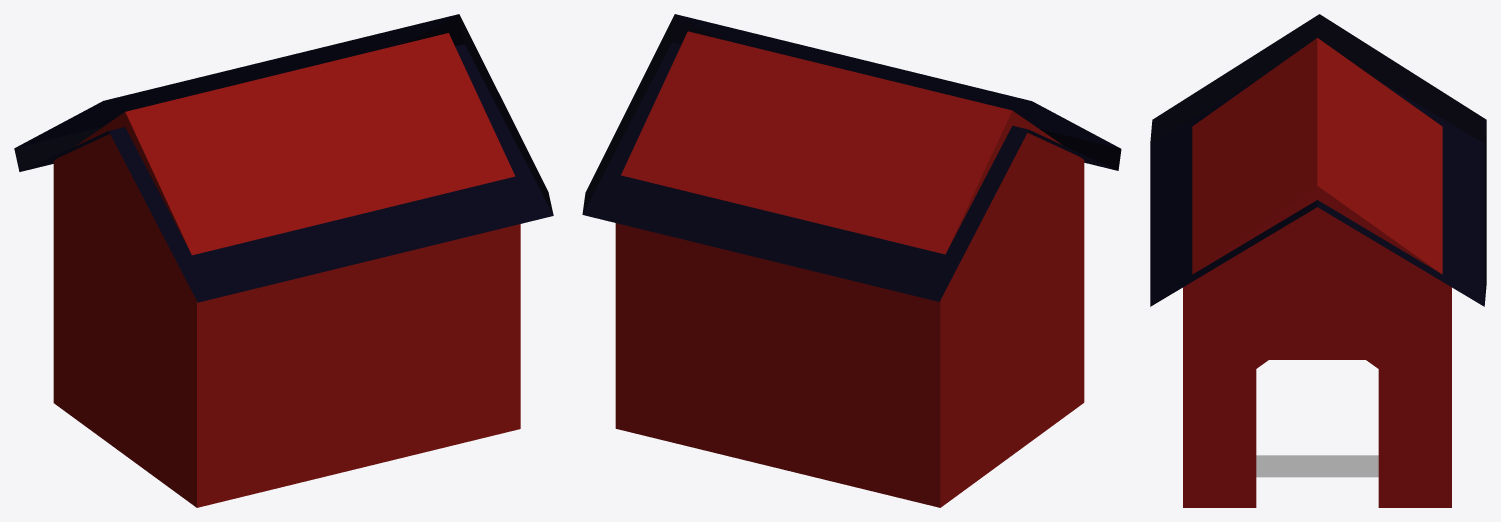
File: Doghouse.fbx
3 renders of one model, left to right at view 1: azimuth 30°, elevation 25°; view 2: azimuth 150°, elevation 25°; view 3: azimuth 270°, elevation 25°, orthographic. The views are drawn at different scales.
Parts seen in each view (by area): view 1: DogHouse; view 2: DogHouse; view 3: DogHouse.
Part boxes in pixels (<box>): DogHouse: <box>14,14,553,507</box>; DogHouse: <box>582,14,1121,507</box>; DogHouse: <box>1150,14,1486,507</box>.
Bounding box in the file's own units: 1557 × 1345 × 1483.
